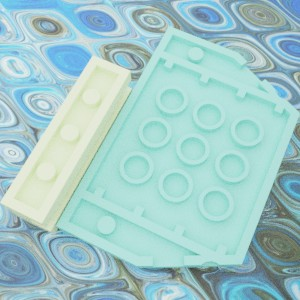lego: (55, 26, 300, 268), (0, 55, 132, 234)
